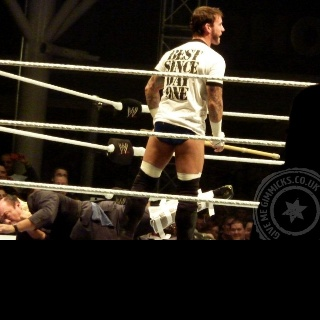without_mask: (211, 14, 224, 43), (231, 223, 244, 240)
